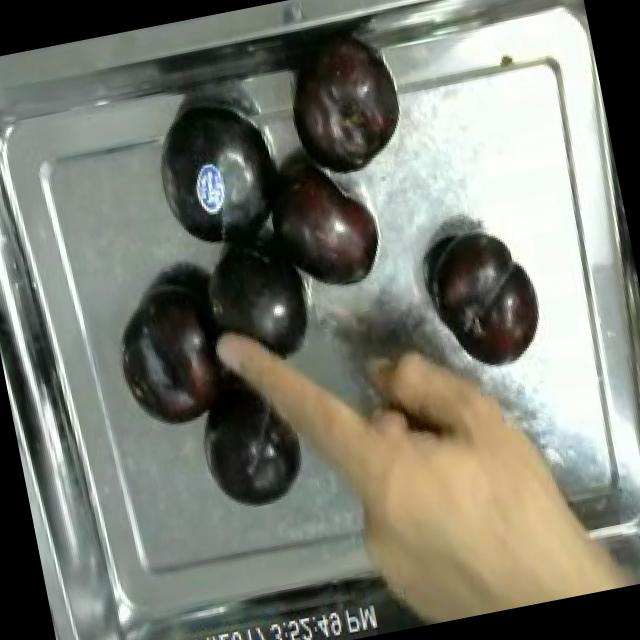Fruit: (138, 88, 296, 276), (414, 215, 554, 382), (276, 24, 416, 189), (108, 270, 240, 442), (268, 146, 398, 307), (188, 370, 310, 520)
